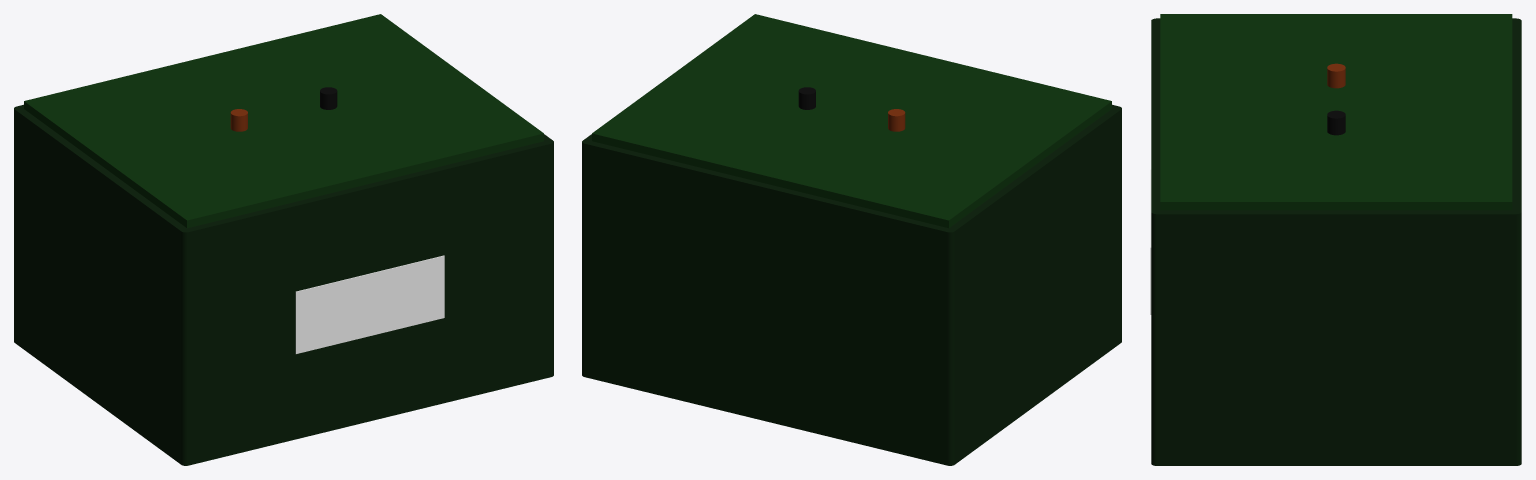
File: battery_pack.glb
3 renders of one model, left to right at view 1: azimuth 30°, elevation 25°; view 2: azimuth 150°, elevation 25°; view 3: azimuth 270°, elevation 25°, orthographic. The views are drawn at different scales.
Visible parts, largest first — view 1: battery; view 2: battery; view 3: battery.
Boxes of the visible parts, x1,y1,x2,y2 form: battery: (14,14,553,465); battery: (582,14,1121,465); battery: (1150,14,1521,465).
Bounding box in the file's own units: 0.5 × 0.33 × 0.401.
